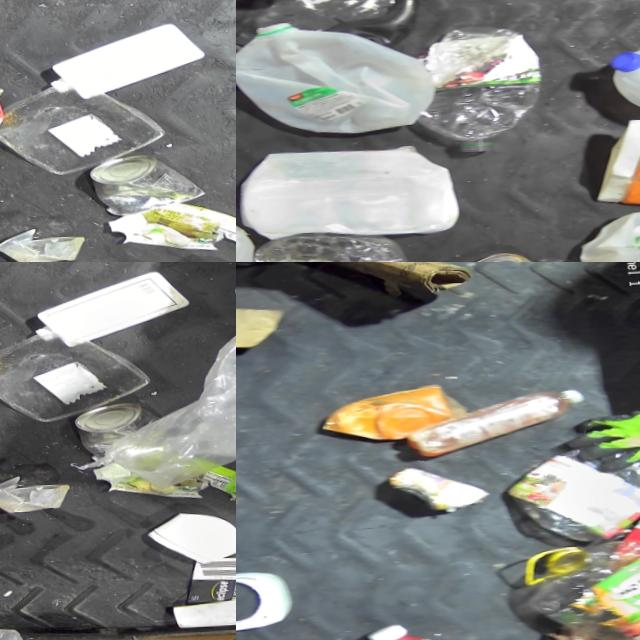can: (82, 153, 200, 219), (380, 465, 487, 518), (67, 402, 157, 465)
milk_jug: (236, 14, 434, 142), (236, 139, 461, 247), (36, 22, 202, 105), (21, 270, 187, 353), (564, 196, 640, 262), (596, 37, 640, 147)
non_white_jug: (236, 0, 424, 61)
plastic_bottle: (391, 27, 545, 151), (236, 227, 408, 262)
